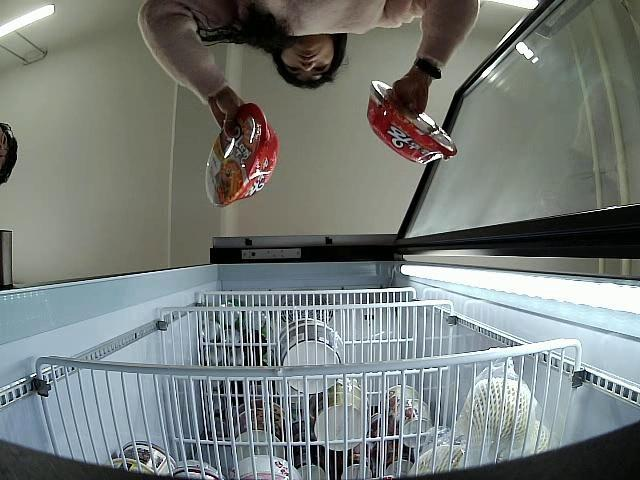10_wangTtukkeong: (368, 79, 458, 166), (206, 103, 277, 208)
